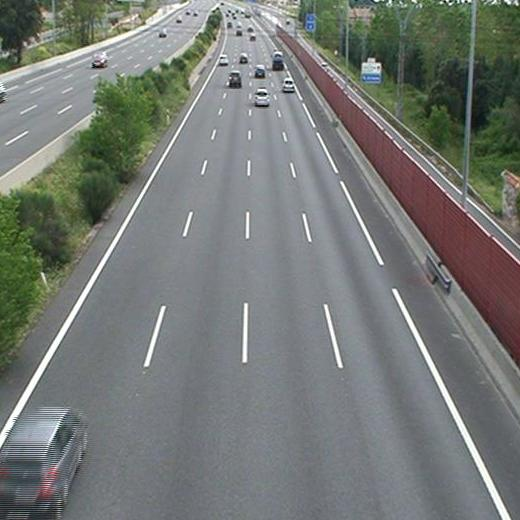car: (2, 407, 86, 504), (254, 89, 269, 106), (229, 71, 242, 84), (283, 79, 295, 91), (254, 65, 265, 77), (238, 53, 250, 63), (273, 52, 283, 62), (219, 55, 229, 65)
small-truck: (272, 51, 284, 70)
